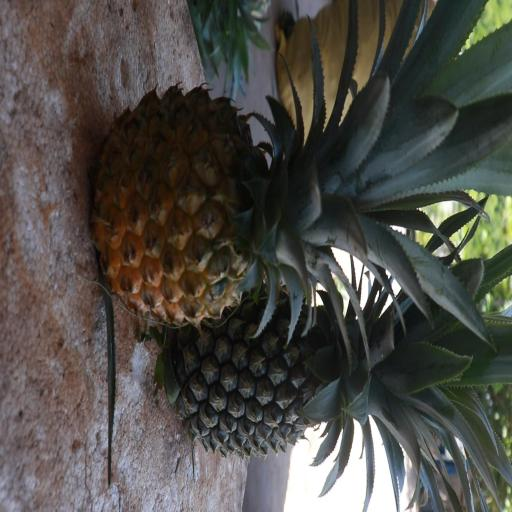Pineapple - v8 v1: (90, 80, 456, 308)
